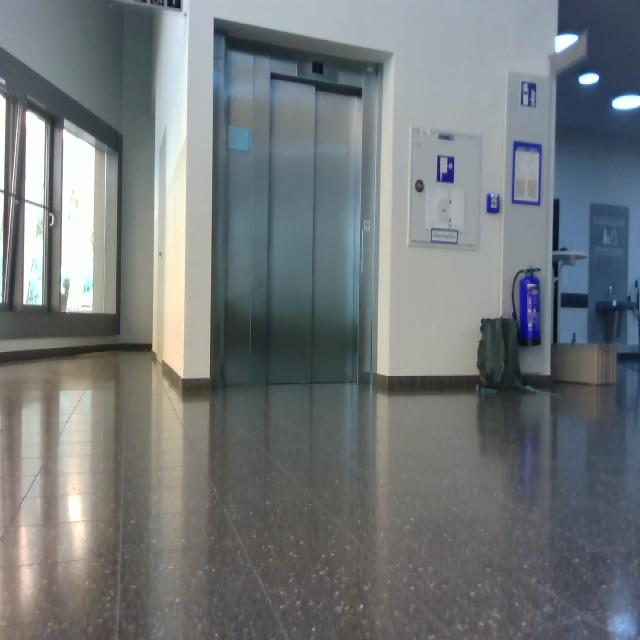door: (212, 34, 383, 389), (267, 73, 363, 385)
fire extinguisher: (512, 267, 542, 347)
light bulb: (612, 93, 640, 112), (555, 33, 579, 54), (578, 72, 600, 86)
tiled floor: (2, 347, 639, 639)
